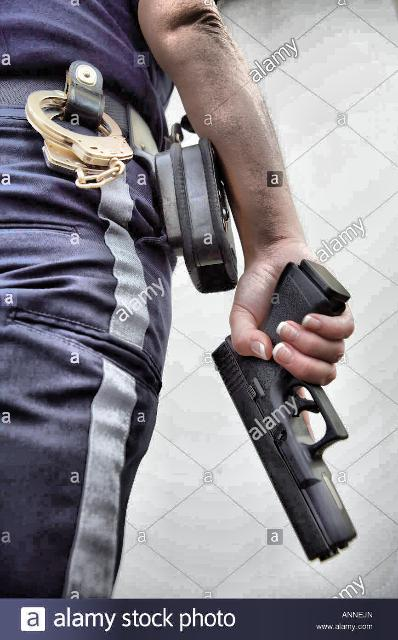pistol: (210, 260, 364, 564)
